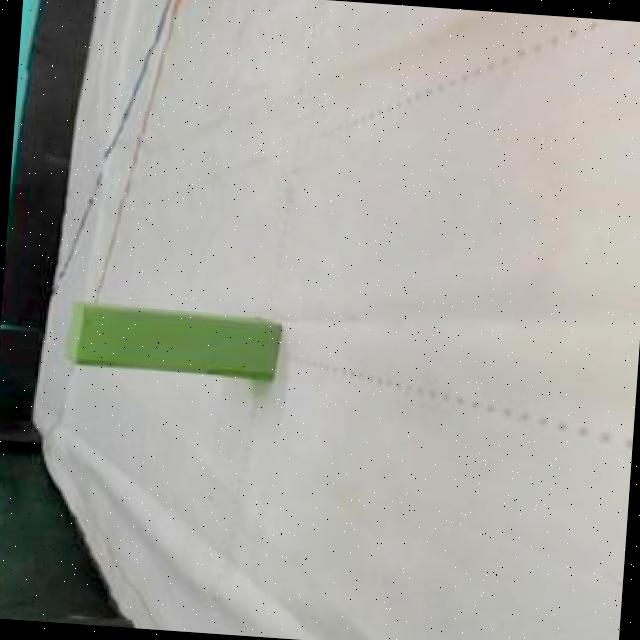greenbox: (59, 292, 284, 386)
